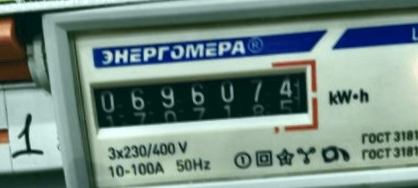0: (93, 87, 114, 112), (215, 77, 233, 103)
4: (273, 73, 290, 96)
5: (275, 98, 292, 114)
6: (186, 79, 205, 106), (125, 85, 144, 110)
7: (245, 76, 264, 102)
9: (155, 82, 173, 109)
screen: (76, 54, 320, 139)
